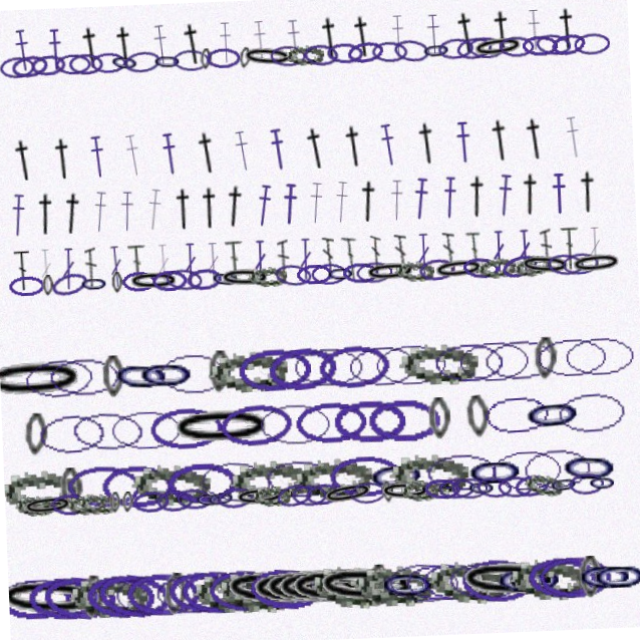chain: (210, 562, 318, 614), (303, 563, 411, 613), (249, 564, 356, 612), (446, 564, 553, 612), (237, 565, 343, 611), (262, 565, 368, 611), (276, 565, 382, 610), (0, 563, 93, 612), (166, 403, 271, 445), (86, 561, 163, 614), (300, 563, 381, 612), (417, 563, 498, 612), (207, 564, 288, 612), (0, 347, 86, 391), (126, 455, 206, 502), (193, 454, 269, 503), (32, 563, 108, 612), (59, 565, 139, 611), (498, 565, 578, 611), (435, 564, 511, 612), (157, 564, 232, 612), (238, 564, 313, 612), (376, 564, 452, 611), (384, 456, 463, 501), (67, 400, 142, 447), (170, 564, 245, 611), (75, 564, 148, 612), (408, 564, 481, 612), (208, 347, 287, 391), (398, 347, 477, 391), (288, 457, 367, 501), (183, 566, 262, 610), (345, 566, 424, 610), (258, 456, 333, 502), (198, 565, 273, 611), (22, 346, 96, 392), (224, 457, 303, 500), (266, 345, 338, 392), (216, 401, 291, 446), (516, 565, 589, 611), (62, 456, 136, 501), (116, 565, 190, 610), (392, 565, 466, 610), (450, 565, 524, 610), (317, 346, 390, 391), (18, 565, 91, 610), (144, 566, 218, 610), (528, 566, 602, 610), (156, 347, 229, 391), (364, 402, 437, 446), (104, 566, 177, 610), (481, 347, 555, 390), (255, 402, 329, 445), (552, 402, 624, 446), (96, 457, 168, 501), (47, 347, 120, 390), (237, 347, 310, 390), (34, 402, 105, 446), (478, 402, 549, 446), (373, 348, 447, 390), (0, 458, 74, 500), (291, 347, 363, 390), (330, 402, 402, 445), (534, 348, 607, 390), (107, 403, 180, 445), (324, 458, 397, 500), (419, 458, 492, 500), (516, 457, 587, 500), (431, 348, 503, 390), (456, 348, 528, 390), (147, 403, 219, 445), (484, 458, 556, 500), (346, 348, 417, 390), (562, 348, 633, 390), (292, 403, 363, 445), (162, 458, 233, 500), (110, 346, 172, 392), (553, 456, 614, 501), (367, 565, 428, 610), (519, 402, 579, 446), (361, 457, 421, 501), (483, 566, 543, 610), (0, 567, 62, 609), (136, 347, 196, 390), (565, 566, 624, 609), (460, 458, 519, 500), (495, 567, 554, 609), (580, 567, 639, 609), (315, 481, 369, 509), (253, 44, 306, 70), (483, 44, 536, 69), (521, 263, 574, 288), (435, 264, 488, 288), (572, 264, 625, 288), (16, 483, 69, 507), (514, 261, 556, 290), (502, 261, 542, 291), (228, 483, 280, 506), (53, 261, 93, 290), (222, 265, 274, 287), (367, 265, 419, 287), (373, 484, 425, 506), (153, 566, 179, 610), (517, 481, 558, 508), (131, 265, 183, 286), (21, 402, 46, 445), (462, 402, 487, 445), (71, 566, 96, 609), (404, 43, 443, 70), (269, 481, 308, 508), (207, 347, 231, 390), (532, 347, 556, 390), (561, 44, 599, 70), (55, 458, 78, 500), (357, 567, 380, 609), (479, 264, 519, 288), (61, 483, 101, 507), (23, 44, 61, 69), (358, 44, 396, 69), (467, 44, 505, 69), (168, 263, 206, 288), (277, 263, 315, 288), (546, 44, 583, 69), (507, 482, 544, 507), (102, 348, 124, 390), (425, 403, 447, 445), (569, 567, 591, 609), (464, 264, 502, 288), (136, 45, 173, 69), (549, 264, 586, 288), (211, 483, 248, 507), (469, 483, 506, 507), (479, 45, 517, 68), (315, 45, 351, 69), (398, 265, 437, 287), (73, 484, 112, 506), (394, 484, 433, 506), (338, 45, 375, 68), (449, 45, 486, 68), (421, 264, 458, 287), (564, 264, 601, 287), (45, 483, 82, 506), (170, 483, 207, 506), (417, 483, 454, 506), (43, 45, 79, 68), (189, 264, 225, 287), (299, 483, 335, 506), (297, 46, 336, 67), (251, 265, 290, 286), (10, 484, 49, 505), (246, 484, 285, 505), (383, 46, 420, 68), (343, 484, 380, 506), (121, 44, 153, 69), (12, 46, 48, 68), (185, 46, 221, 68), (282, 46, 318, 68), (510, 46, 546, 68), (533, 46, 569, 68), (585, 46, 621, 68), (345, 265, 381, 287), (359, 265, 395, 287), (127, 484, 163, 506), (151, 484, 187, 506), (285, 484, 321, 506), (445, 484, 481, 506), (491, 484, 527, 506), (562, 484, 597, 506), (103, 46, 139, 67), (12, 265, 48, 286), (299, 265, 335, 286), (314, 265, 350, 286), (432, 484, 468, 505), (213, 264, 244, 288), (68, 46, 103, 67), (81, 46, 116, 67), (218, 46, 253, 67), (125, 265, 160, 286), (155, 265, 190, 286), (200, 483, 230, 506), (460, 483, 490, 506), (542, 483, 572, 506), (433, 46, 463, 68), (188, 484, 218, 506), (165, 46, 194, 68), (83, 265, 112, 286), (329, 265, 358, 286), (581, 484, 610, 505), (250, 46, 264, 68), (375, 484, 388, 506), (212, 46, 224, 67), (116, 484, 128, 505), (46, 265, 57, 286), (115, 265, 126, 286), (104, 484, 115, 505)
double: (132, 239, 151, 281), (229, 239, 248, 281), (18, 239, 36, 281), (345, 239, 363, 281), (564, 239, 582, 281), (112, 239, 128, 281), (469, 239, 485, 281), (43, 239, 58, 281), (65, 239, 80, 281), (160, 239, 175, 281), (187, 239, 201, 281), (210, 239, 224, 281), (257, 239, 271, 281), (302, 239, 316, 281), (420, 239, 434, 281), (495, 239, 509, 281), (521, 239, 535, 281), (591, 239, 605, 281), (398, 239, 411, 281), (446, 239, 459, 281), (543, 239, 556, 281), (89, 239, 101, 281), (281, 239, 293, 281), (326, 239, 338, 281), (374, 239, 385, 281)
half_double: (226, 182, 255, 227), (64, 183, 93, 227), (310, 128, 338, 172), (360, 183, 388, 227), (192, 19, 219, 63), (465, 19, 492, 63), (19, 128, 46, 172), (202, 128, 229, 172), (529, 128, 556, 171), (469, 183, 496, 226), (522, 183, 549, 226), (91, 19, 117, 62), (362, 19, 388, 62), (349, 128, 375, 171), (422, 128, 448, 171), (495, 128, 521, 171), (39, 183, 65, 226), (580, 183, 606, 226), (330, 19, 355, 62), (125, 20, 150, 62), (59, 129, 84, 171), (177, 184, 202, 226), (203, 184, 228, 226), (502, 20, 526, 62), (567, 20, 591, 62), (259, 183, 281, 227), (131, 128, 152, 171), (240, 128, 261, 171), (386, 128, 407, 171), (150, 183, 171, 226), (416, 183, 437, 226), (26, 19, 46, 62), (168, 128, 188, 171), (276, 128, 296, 171), (571, 128, 591, 171), (96, 183, 116, 226), (337, 183, 357, 226), (500, 183, 520, 226), (164, 19, 183, 62), (97, 128, 116, 171), (15, 183, 34, 226), (286, 183, 305, 226), (312, 183, 331, 226), (446, 183, 465, 226), (264, 20, 282, 62), (298, 20, 316, 62), (124, 184, 142, 226), (393, 184, 411, 226), (60, 20, 77, 62), (437, 20, 454, 62), (538, 20, 555, 62), (463, 129, 480, 171), (230, 20, 246, 62), (402, 20, 418, 62), (556, 184, 572, 226)
